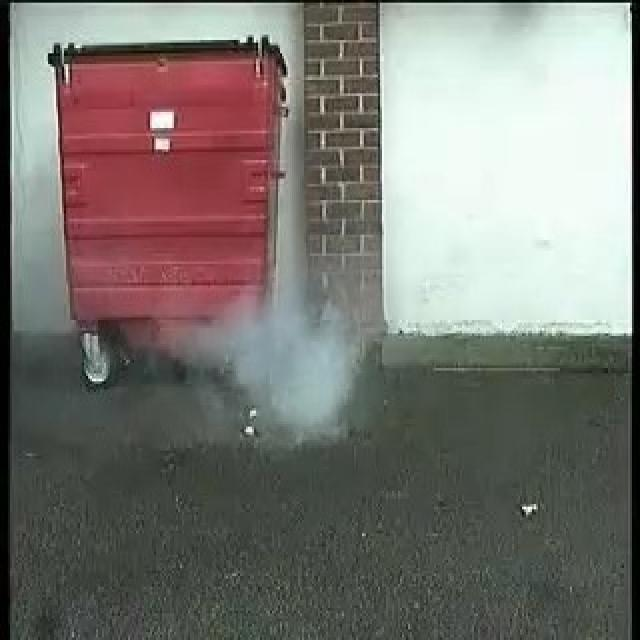smoke: (198, 296, 366, 435)
